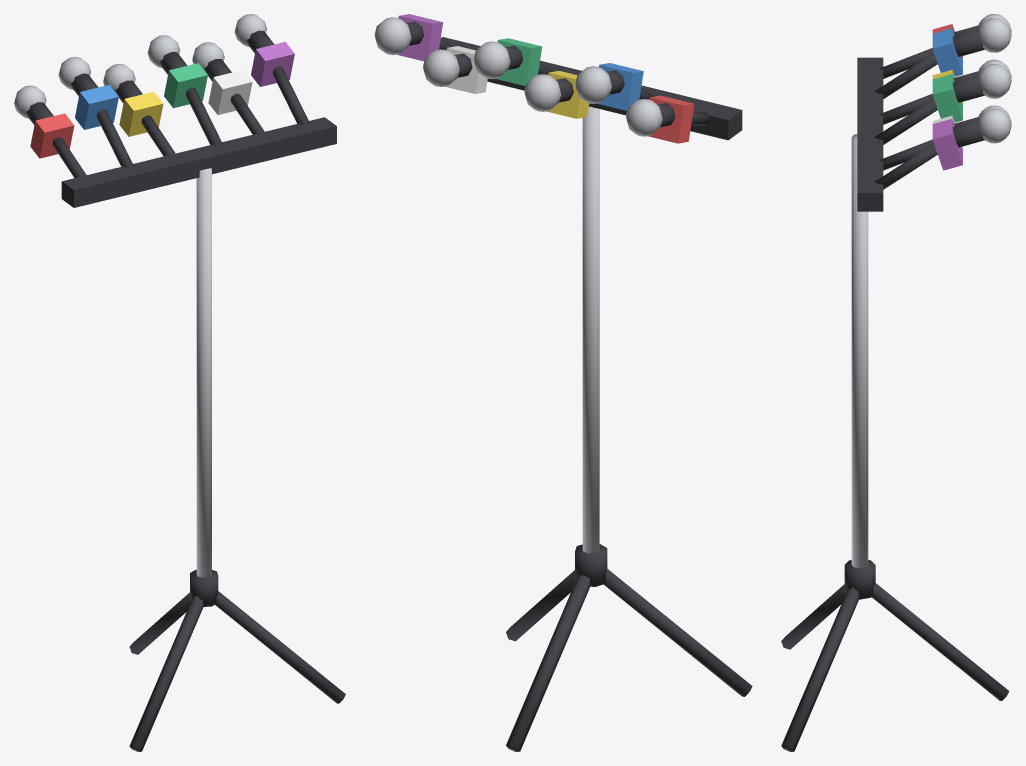
The model's file is press-mics.glb.
The picture shows the model from 3 angles, left to right: view 1: azimuth 30°, elevation 25°; view 2: azimuth 150°, elevation 25°; view 3: azimuth 270°, elevation 25°; orthographic projection. The views are drawn at different scales.
Parts seen in each view (by area): view 1: PressMics; view 2: PressMics; view 3: PressMics.
Boxes of the visible parts, x1,y1,x2,y2 form: PressMics: (14, 14, 345, 751); PressMics: (374, 14, 752, 751); PressMics: (781, 14, 1011, 751).
Size of the model in its own units: 0.62 by 1.38 by 0.4468.
